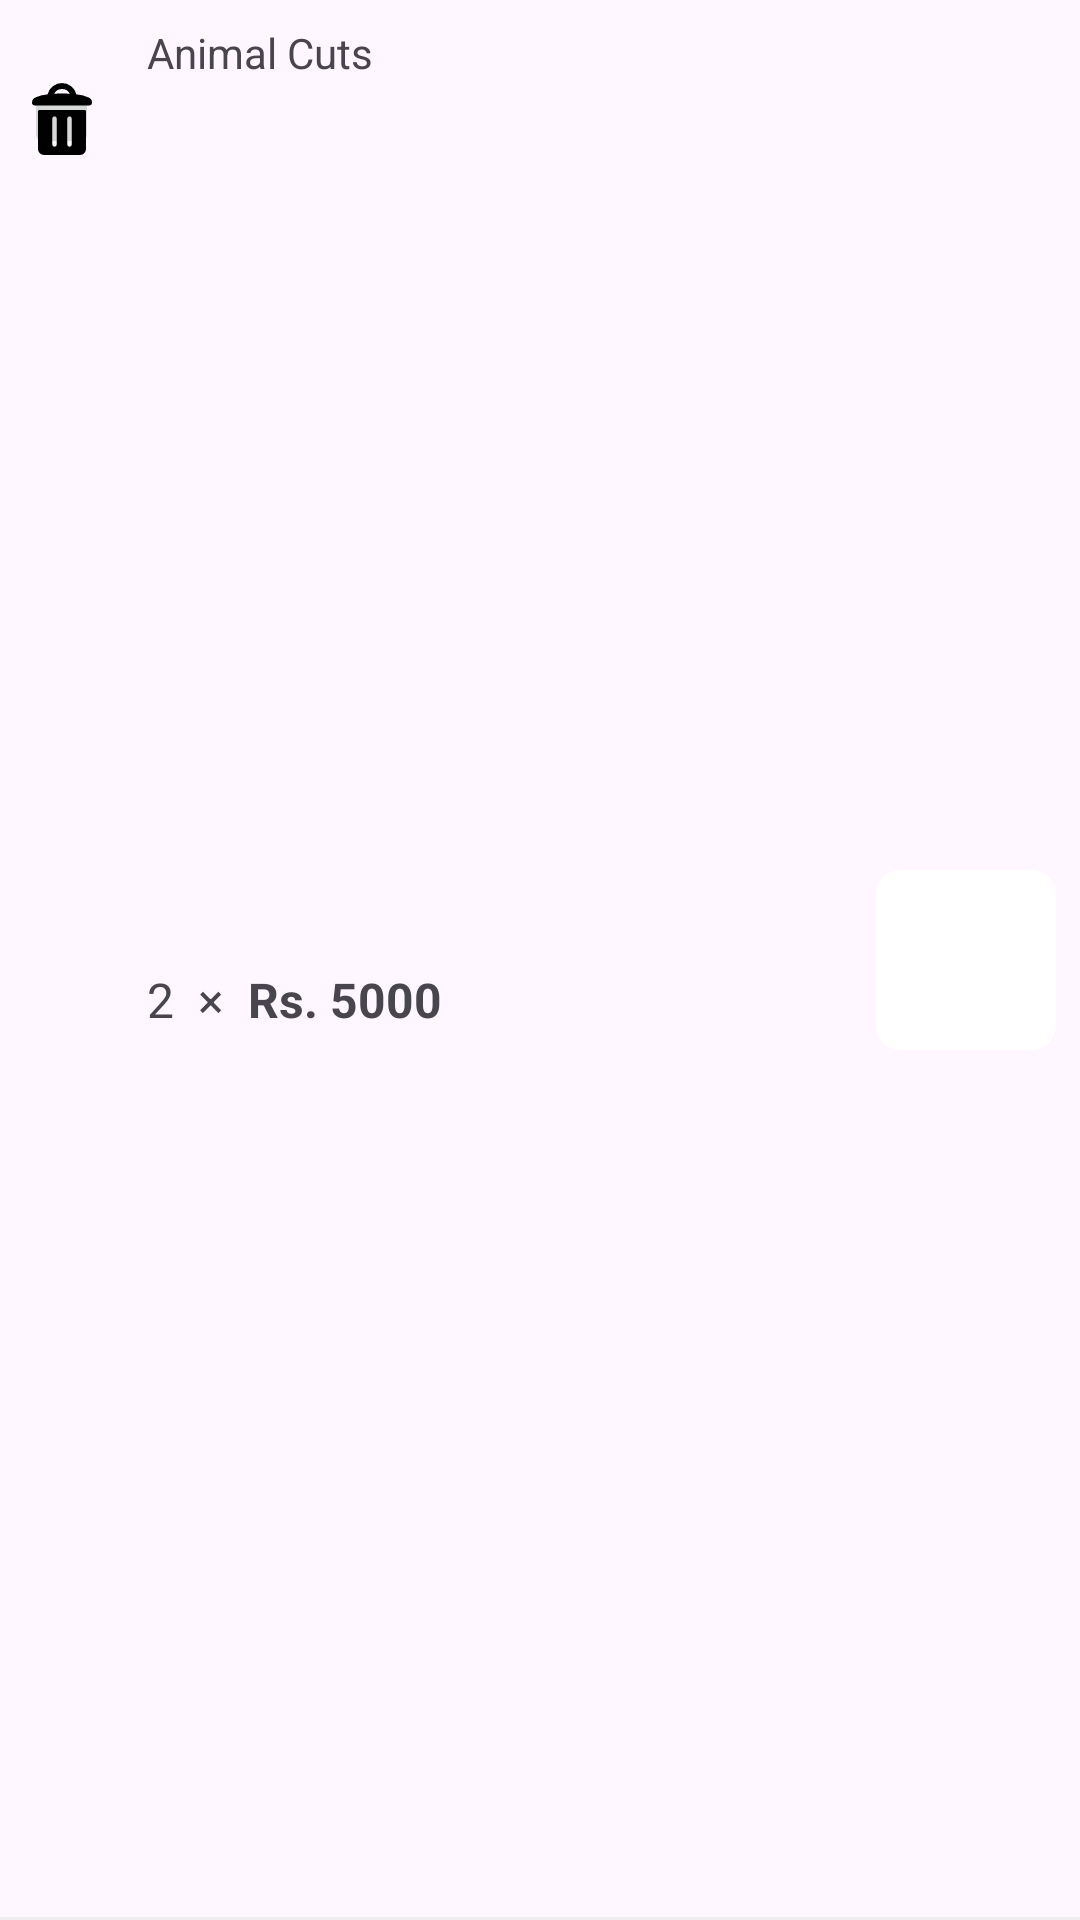

Locate icon controls on the screen. Image size 1080*1920, boxes as (x1,y1,x2,y2).
binn: (32,83,92,155)
